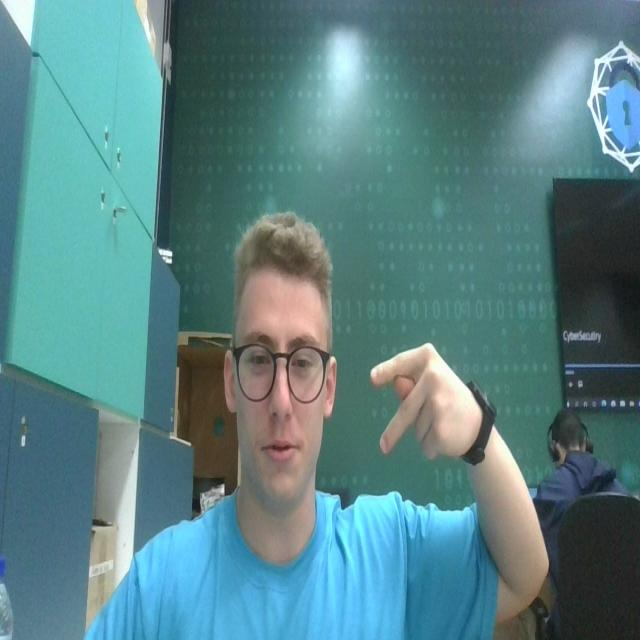P: (359, 340, 486, 473)
